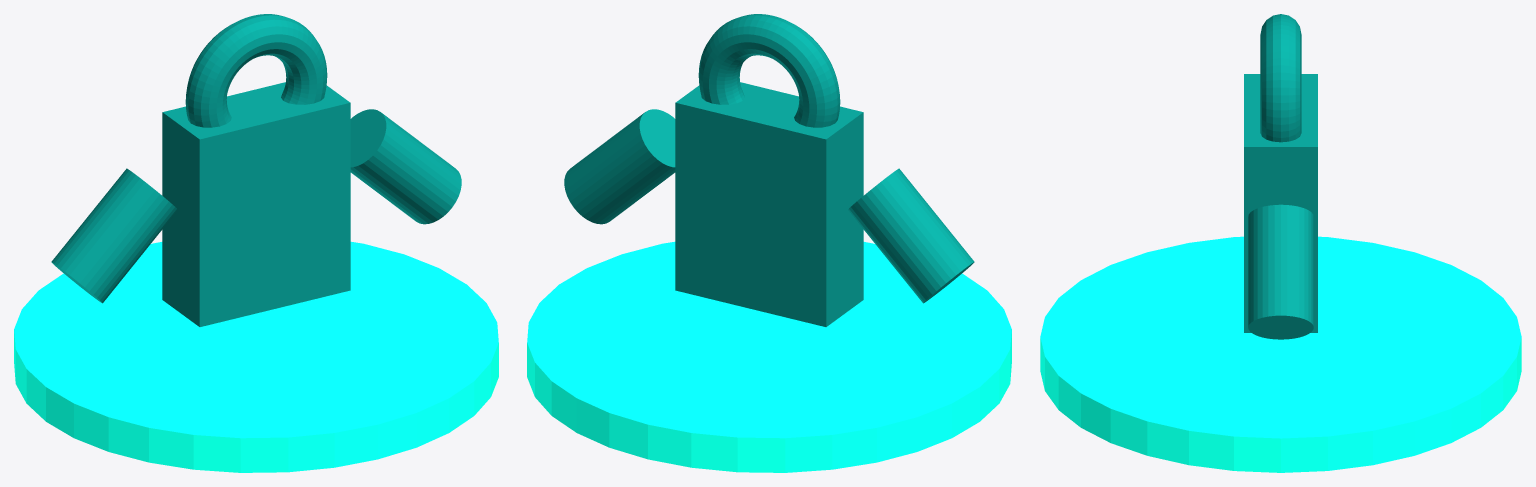
Rendered from fashion_hoodie.dae.
3 renders of one model, left to right at view 1: azimuth 30°, elevation 25°; view 2: azimuth 150°, elevation 25°; view 3: azimuth 270°, elevation 25°, orthographic.
Parts seen in each view (by area): view 1: 06_02_Popular_Fashion_Hoodie_ROOT_base, 06_02_Popular_Fashion_Hoodie_part_01, 06_02_Popular_Fashion_Hoodie_part_02, 06_02_Popular_Fashion_Hoodie_part_03, 06_02_Popular_Fashion_Hoodie_part_04; view 2: 06_02_Popular_Fashion_Hoodie_ROOT_base, 06_02_Popular_Fashion_Hoodie_part_01, 06_02_Popular_Fashion_Hoodie_part_02, 06_02_Popular_Fashion_Hoodie_part_03, 06_02_Popular_Fashion_Hoodie_part_04; view 3: 06_02_Popular_Fashion_Hoodie_ROOT_base, 06_02_Popular_Fashion_Hoodie_part_04, 06_02_Popular_Fashion_Hoodie_part_01, 06_02_Popular_Fashion_Hoodie_part_02.
Boxes of the visible parts, x1=… form: 06_02_Popular_Fashion_Hoodie_ROOT_base: x1=14, y1=241, x2=498, y2=472; 06_02_Popular_Fashion_Hoodie_part_01: x1=162, y1=82, x2=350, y2=326; 06_02_Popular_Fashion_Hoodie_part_02: x1=185, y1=14, x2=327, y2=127; 06_02_Popular_Fashion_Hoodie_part_03: x1=51, y1=168, x2=177, y2=303; 06_02_Popular_Fashion_Hoodie_part_04: x1=350, y1=109, x2=461, y2=224; 06_02_Popular_Fashion_Hoodie_ROOT_base: x1=527, y1=241, x2=1011, y2=472; 06_02_Popular_Fashion_Hoodie_part_01: x1=675, y1=82, x2=863, y2=326; 06_02_Popular_Fashion_Hoodie_part_02: x1=698, y1=14, x2=840, y2=127; 06_02_Popular_Fashion_Hoodie_part_03: x1=848, y1=168, x2=974, y2=303; 06_02_Popular_Fashion_Hoodie_part_04: x1=564, y1=109, x2=675, y2=224; 06_02_Popular_Fashion_Hoodie_ROOT_base: x1=1040, y1=236, x2=1521, y2=472; 06_02_Popular_Fashion_Hoodie_part_04: x1=1248, y1=204, x2=1313, y2=339; 06_02_Popular_Fashion_Hoodie_part_01: x1=1244, y1=74, x2=1317, y2=332; 06_02_Popular_Fashion_Hoodie_part_02: x1=1260, y1=14, x2=1301, y2=142.
Bounding box in the file's own units: 0.76 × 0.6099 × 0.76.
